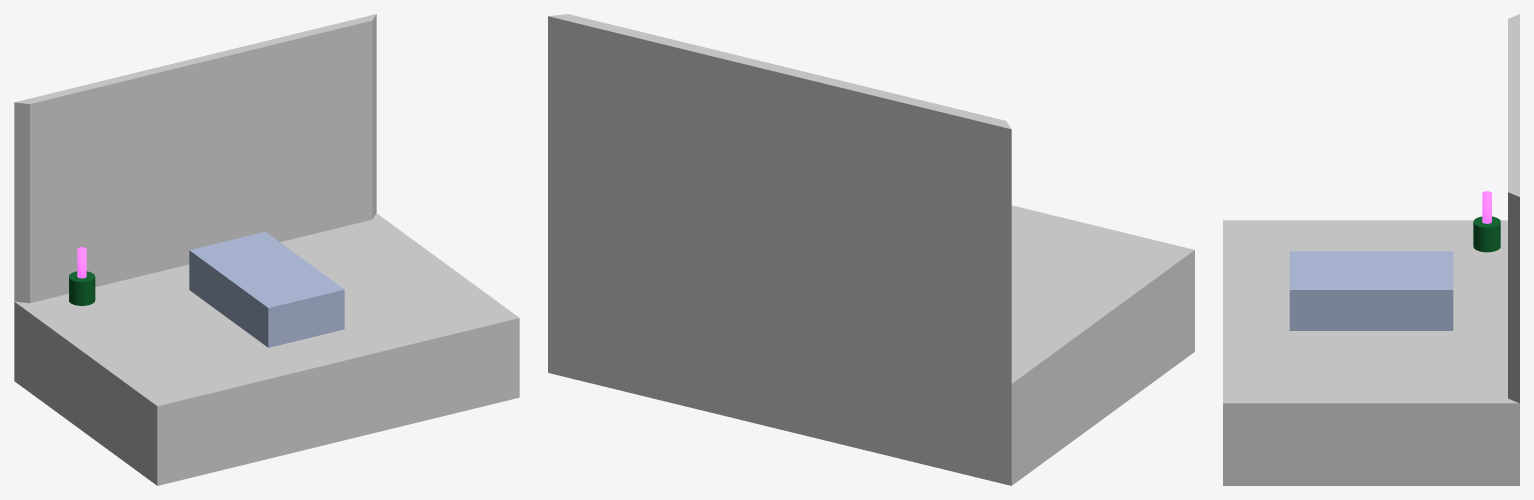
Rendered from room_1.glb.
3 renders of one model, left to right at view 1: azimuth 30°, elevation 25°; view 2: azimuth 150°, elevation 25°; view 3: azimuth 270°, elevation 25°, orthographic. The views are drawn at different scales.
Parts seen in each view (by area): view 1: Cube, Cube.001, Cylinder; view 2: Cube; view 3: Cube, Cube.001, Cylinder.
Part boxes in pixels (bbox=[...]): Cube: bbox=[14, 14, 519, 485]; Cube.001: bbox=[189, 231, 344, 347]; Cylinder: bbox=[69, 271, 95, 305]; Cube: bbox=[548, 14, 1194, 485]; Cube: bbox=[1223, 14, 1519, 485]; Cube.001: bbox=[1289, 251, 1453, 330]; Cylinder: bbox=[1473, 216, 1500, 252].
Bounding box in the file's own units: 4.76 × 3.5 × 3.26.
